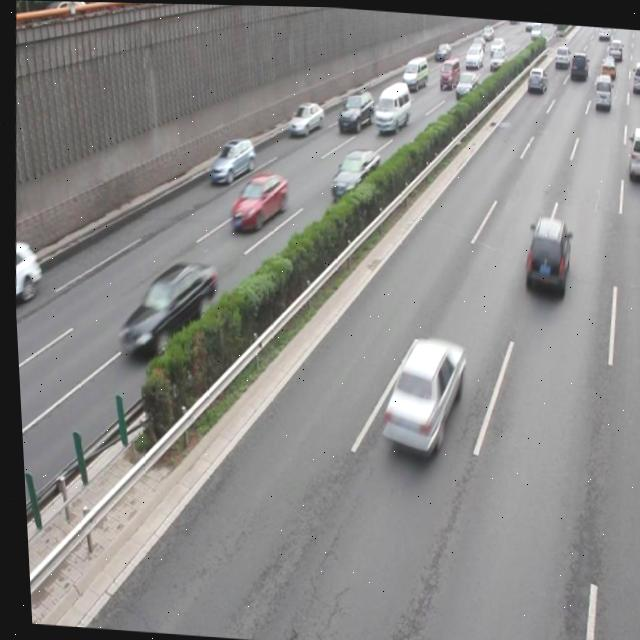car: (372, 331, 464, 455), (112, 254, 217, 360), (517, 210, 570, 295), (225, 166, 289, 234), (326, 144, 380, 201), (205, 134, 256, 186), (334, 87, 375, 133), (285, 97, 325, 137)
truck: (369, 78, 411, 133), (624, 123, 640, 176)
